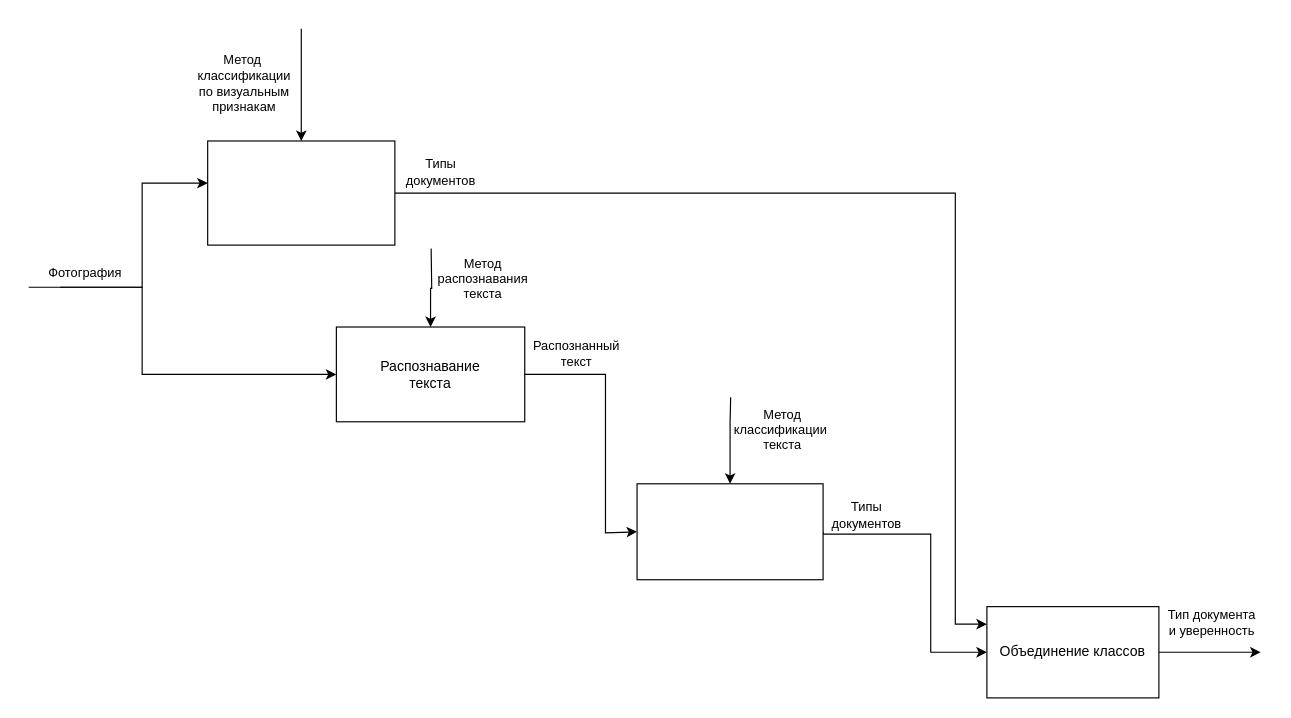
Image size: 1291x718. Some labels were removed from this diagram. The shapes that lost their labels are listed below. From the top down, each one's centre as x and y in pixels, then its label:
At (301,192): "Визуальное представление документа".
At (729,531): "Классификация текста".
